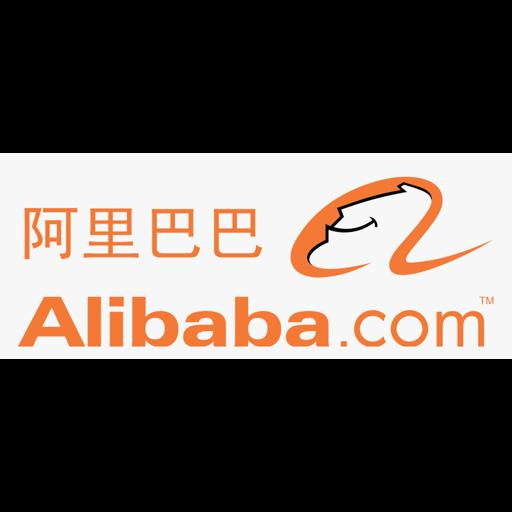Alibaba: (0, 153, 512, 359)
